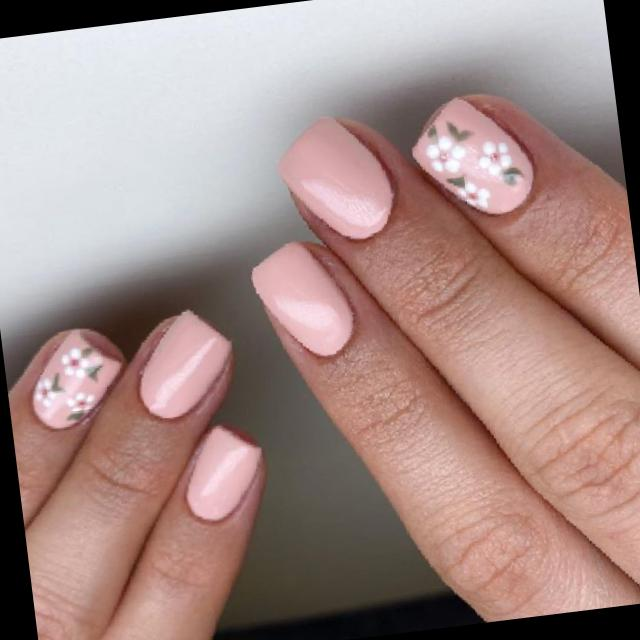Nail: (411, 98, 532, 213), (279, 117, 393, 237), (250, 241, 352, 355), (139, 310, 230, 417), (32, 328, 120, 427), (185, 425, 261, 520)
